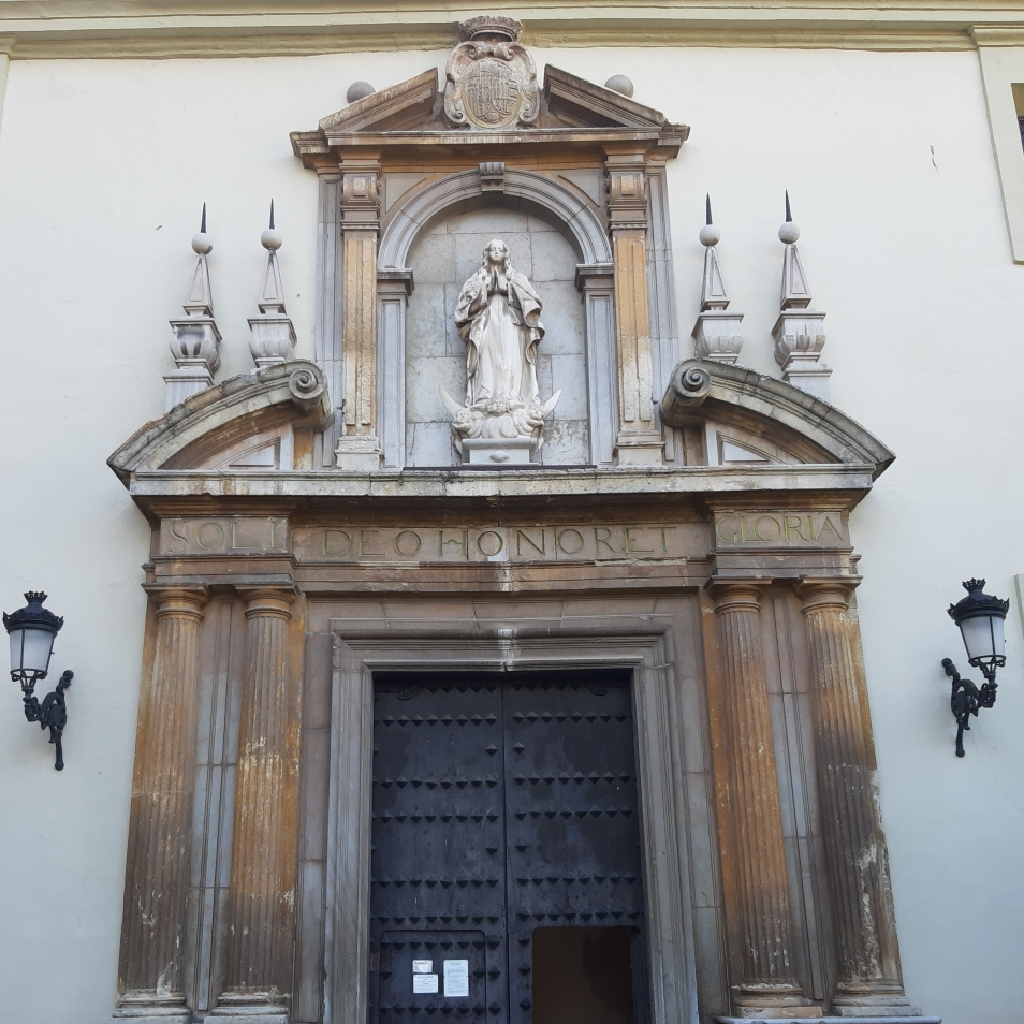arco-medio-punto: (393, 182, 601, 309)
fronton-partido: (117, 359, 888, 509), (310, 64, 659, 150)
vano-adintelado: (307, 601, 694, 1024)
